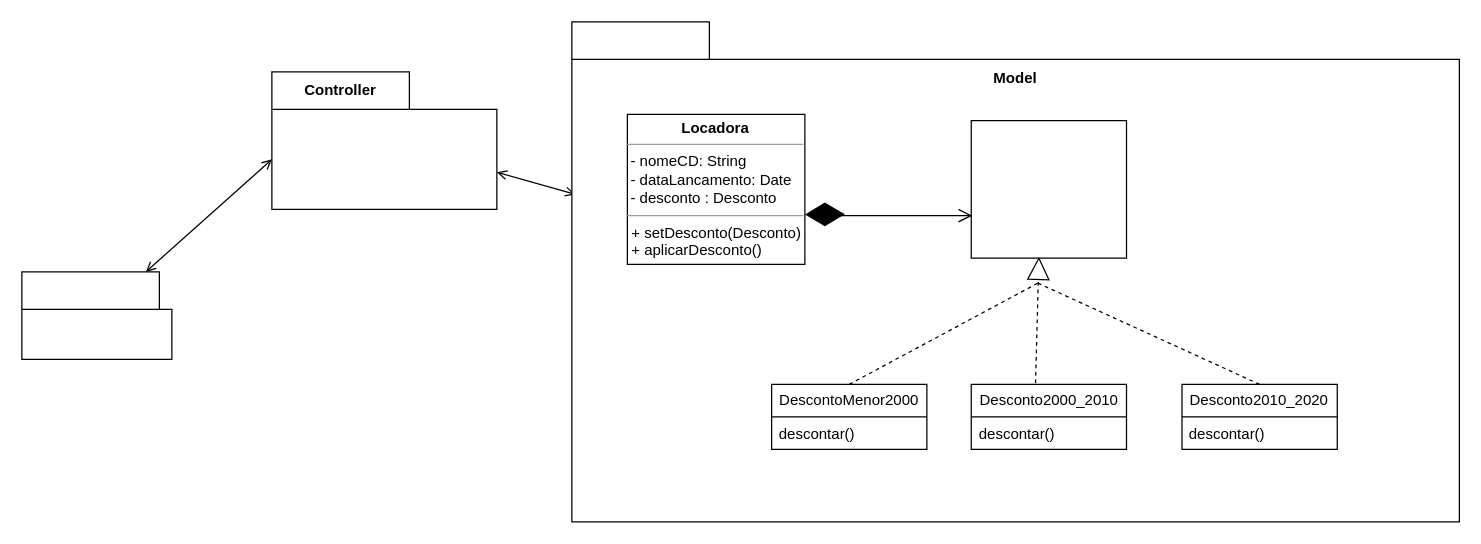
The diagram is 1481 pixels wide and 544 high, and some of its shapes have lost their labels. The shapes that lost their labels are listed below. From the top down, each one's centre as x and y in pixels, then its label:
At pixel 1048 188: "<<Interface>> Desconto + descontar()".
At pixel 96 315: "View".
